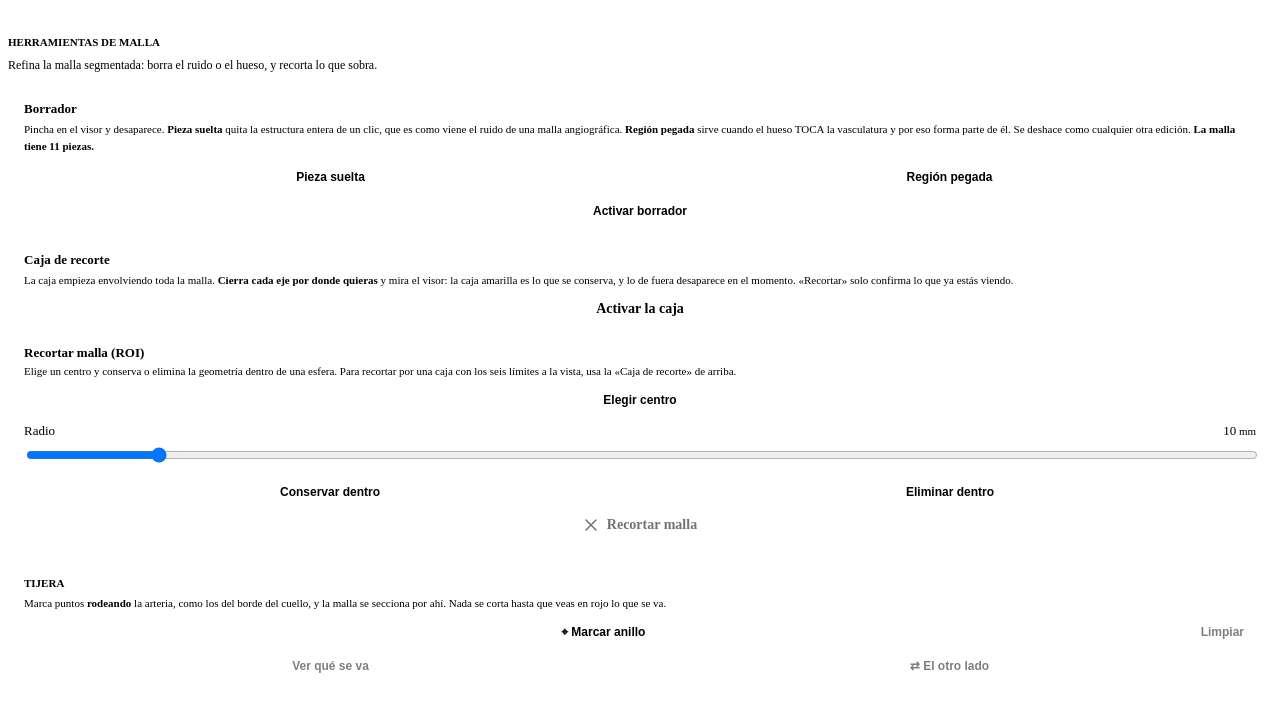
Test: la caja de recorte › ofrece los tres ejes, cada uno por los dos lados
Click the button "Activar la caja".
click(640, 308)  # box [24, 300, 1256, 316]
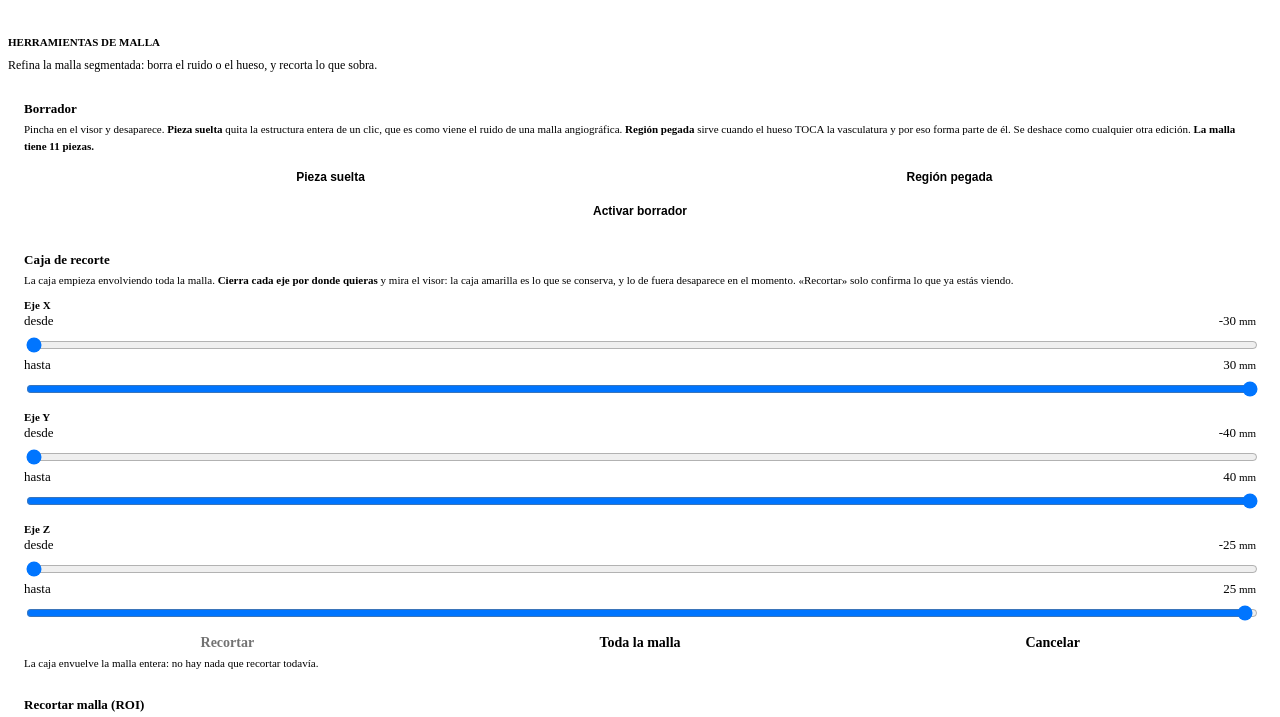
Check: the text "Eje X" is shown, box [24, 298, 51, 310]
Check: the number of sliders labelled "desde" is 3, box [26, 336, 1258, 352]; [26, 448, 1258, 464]; [26, 560, 1258, 576]
Check: the number of sliders labelled "hasta" is 3, box [26, 380, 1258, 396]; [26, 492, 1258, 508]; [26, 604, 1258, 620]
